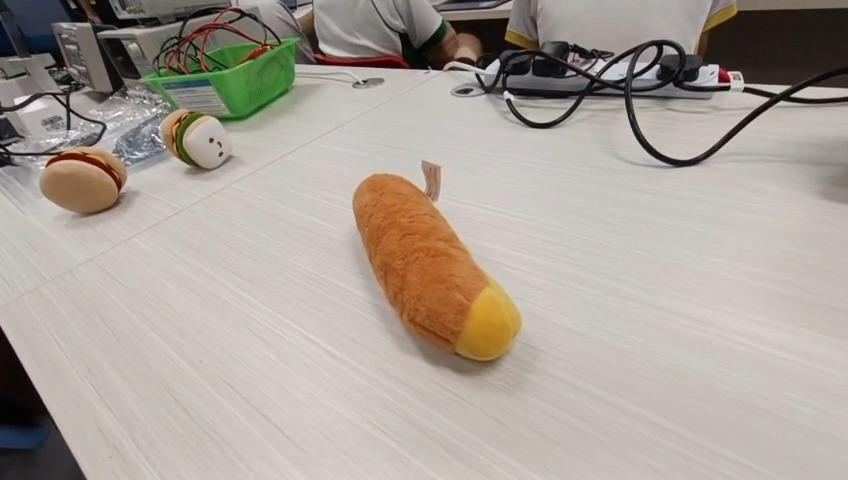hotdog: (351, 171, 522, 362)
